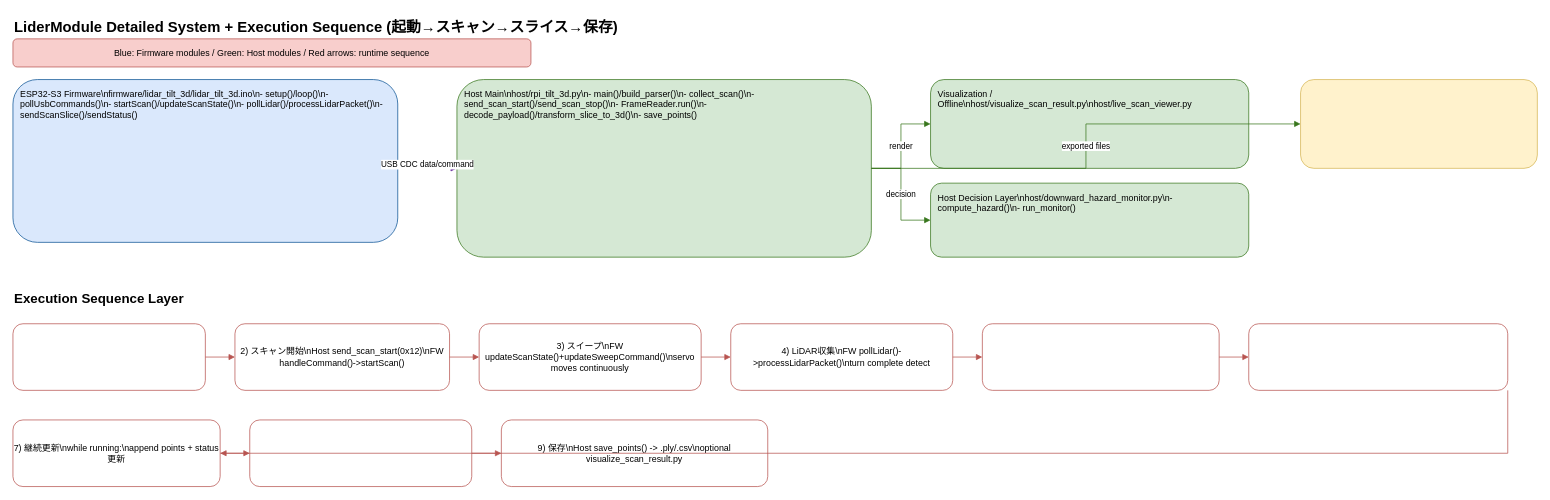
Image size: 1550x500. Some labels were removed from this diagram. The shapes that lost their labels are listed below. From the top down, each one's centre as x and y in pixels, then its label:
At point 1418,123: "Artifacts\n- .ply / .csv\n- logs\n- .png summaries".
At point 108,356: "1) 起動\nHost: main() -> collect_scan()\nFW: setup() ready".
At point 1100,356: "5) スライス送信\nFW sendScanSlice(0x04)\n[tilt_start, tilt_end, imu, points]".
At point 1378,356: "6) Host復元\nFrameReader/decode_payload\ntransform_slice_to_3d(tilt interpolation)".
At point 360,453: "8) 停止\nHost send_scan_stop(0x13)\nor FW complete status".
